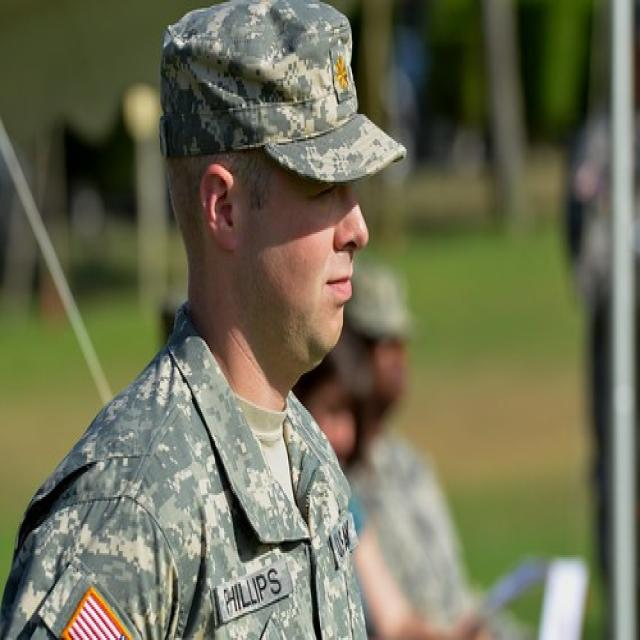illegal_helmet: (148, 0, 418, 380)
